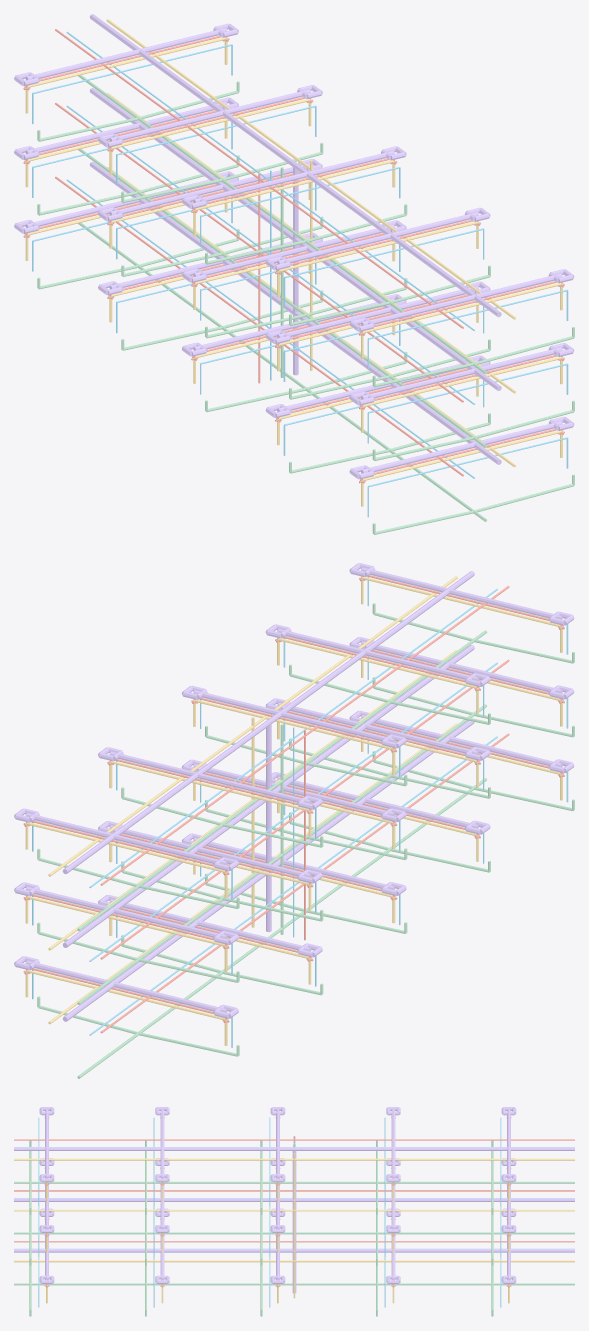
The model's file is component-pipes.glb.
3 renders of one model, top to bottom at view 1: azimuth 30°, elevation 25°; view 2: azimuth 150°, elevation 25°; view 3: azimuth 270°, elevation 25°, orthographic. The views are drawn at different scales.
Visible parts, largest first — view 1: 空調送風｜示意層 3, 空調送風｜示意層 2, 空調送風｜示意層 1, 電力線槽｜示意層 3, 排水｜示意層 3, 排水｜示意層 2, 排水｜示意層 1, 消防灑水｜示意層 3, 給水｜示意層 3, 消防灑水｜示意層 2, 電力線槽｜示意層 2, 消防灑水｜示意層 1 (+4 smaller); view 2: 空調送風｜示意層 3, 空調送風｜示意層 2, 空調送風｜示意層 1, 電力線槽｜示意層 3, 排水｜示意層 3, 排水｜示意層 2, 排水｜示意層 1, 消防灑水｜示意層 3, 電力線槽｜示意層 2, 消防灑水｜示意層 2, 消防灑水｜示意層 1, 電力線槽｜示意層 1 (+5 smaller); view 3: 空調送風｜示意層 3, 空調送風｜示意層 1, 空調送風｜示意層 2, 排水｜示意層 3, 排水｜示意層 1, 排水｜示意層 2, 電力線槽｜示意層 3, 電力線槽｜示意層 1, 電力線槽｜示意層 2, 給水｜示意層 3, 消防灑水｜示意層 3, 消防灑水｜示意層 1 (+5 smaller).
Part boxes in pixels (left/top/right/bottom): 空調送風｜示意層 3: left=14, top=14, right=574, bottom=331; 空調送風｜示意層 2: left=14, top=88, right=574, bottom=405; 空調送風｜示意層 1: left=14, top=161, right=574, bottom=479; 電力線槽｜示意層 3: left=25, top=19, right=562, bottom=358; 排水｜示意層 3: left=37, top=75, right=574, bottom=387; 排水｜示意層 2: left=37, top=149, right=574, bottom=460; 排水｜示意層 1: left=37, top=222, right=574, bottom=534; 消防灑水｜示意層 3: left=23, top=29, right=564, bottom=335; 給水｜示意層 3: left=32, top=31, right=568, bottom=369; 消防灑水｜示意層 2: left=23, top=103, right=564, bottom=409; 電力線槽｜示意層 2: left=25, top=93, right=562, bottom=432; 消防灑水｜示意層 1: left=23, top=176, right=564, bottom=483; 空調送風｜示意層 3: left=14, top=563, right=574, bottom=874; 空調送風｜示意層 2: left=14, top=637, right=574, bottom=947; 空調送風｜示意層 1: left=14, top=710, right=574, bottom=1021; 電力線槽｜示意層 3: left=25, top=576, right=562, bottom=898; 排水｜示意層 3: left=37, top=603, right=574, bottom=931; 排水｜示意層 2: left=37, top=677, right=574, bottom=1004; 排水｜示意層 1: left=37, top=751, right=574, bottom=1078; 消防灑水｜示意層 3: left=23, top=575, right=564, bottom=885; 電力線槽｜示意層 2: left=25, top=650, right=562, bottom=972; 消防灑水｜示意層 2: left=23, top=650, right=564, bottom=959; 消防灑水｜示意層 1: left=23, top=723, right=564, bottom=1033; 電力線槽｜示意層 1: left=25, top=723, right=562, bottom=1045; 空調送風｜示意層 3: left=14, top=1107, right=574, bottom=1182; 空調送風｜示意層 1: left=14, top=1208, right=574, bottom=1283; 空調送風｜示意層 2: left=14, top=1158, right=574, bottom=1232; 排水｜示意層 3: left=14, top=1140, right=574, bottom=1214; 排水｜示意層 1: left=14, top=1265, right=574, bottom=1316; 排水｜示意層 2: left=14, top=1214, right=574, bottom=1265; 電力線槽｜示意層 3: left=14, top=1158, right=574, bottom=1201; 電力線槽｜示意層 1: left=14, top=1260, right=574, bottom=1303; 電力線槽｜示意層 2: left=14, top=1209, right=574, bottom=1252; 給水｜示意層 3: left=14, top=1117, right=574, bottom=1205; 消防灑水｜示意層 3: left=14, top=1117, right=574, bottom=1185; 消防灑水｜示意層 1: left=14, top=1218, right=574, bottom=1287.
Size of the model in its own units: 10.48 by 9.72 by 34.
